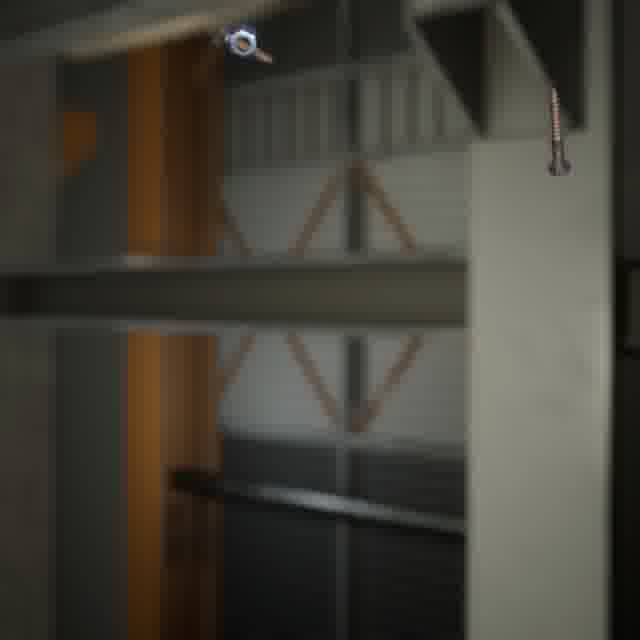bolt: (206, 18, 278, 70), (544, 83, 574, 180)
nut: (224, 20, 263, 62)
